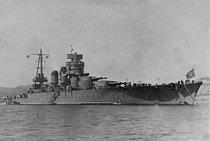Ship: (14, 54, 204, 108)
